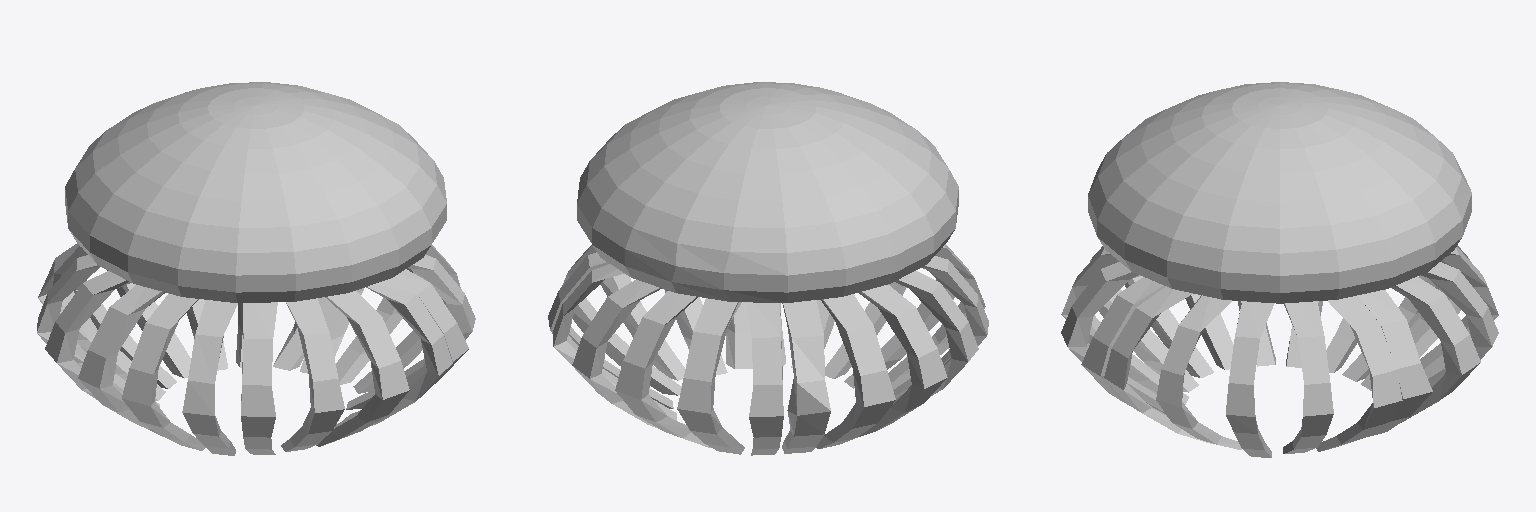
The model's file is JellyAnimPartThree.obj.
3 views of the same model, side by side, from view 1: azimuth 30°, elevation 25°; view 2: azimuth 150°, elevation 25°; view 3: azimuth 270°, elevation 25° (orthographic).
Visible parts, largest first — view 1: AnimPartOne1:AnimPartOne1 polySurface3; view 2: AnimPartOne1:AnimPartOne1 polySurface3; view 3: AnimPartOne1:AnimPartOne1 polySurface3.
Boxes of the visible parts, box(x1,y1,x2,y2) form: AnimPartOne1:AnimPartOne1 polySurface3: box(37, 82, 475, 455); AnimPartOne1:AnimPartOne1 polySurface3: box(548, 82, 988, 455); AnimPartOne1:AnimPartOne1 polySurface3: box(1061, 82, 1498, 457).
Size of the model in its own units: 4.13 by 3.15 by 4.13.